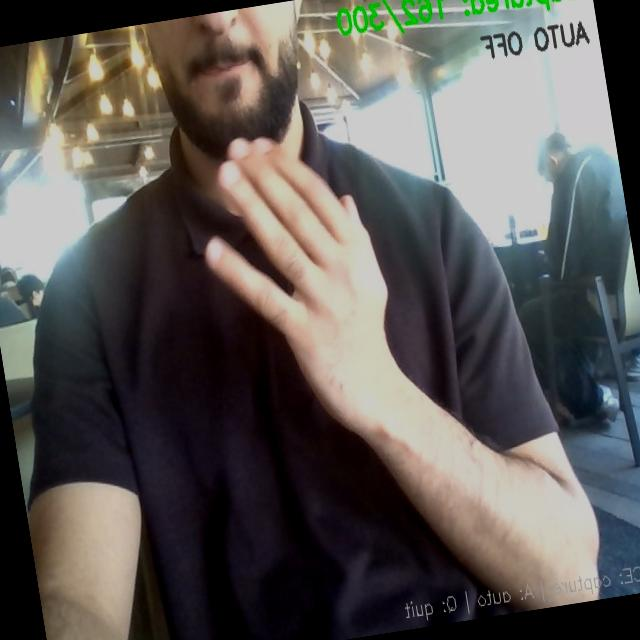Hand: (206, 139, 398, 433)
